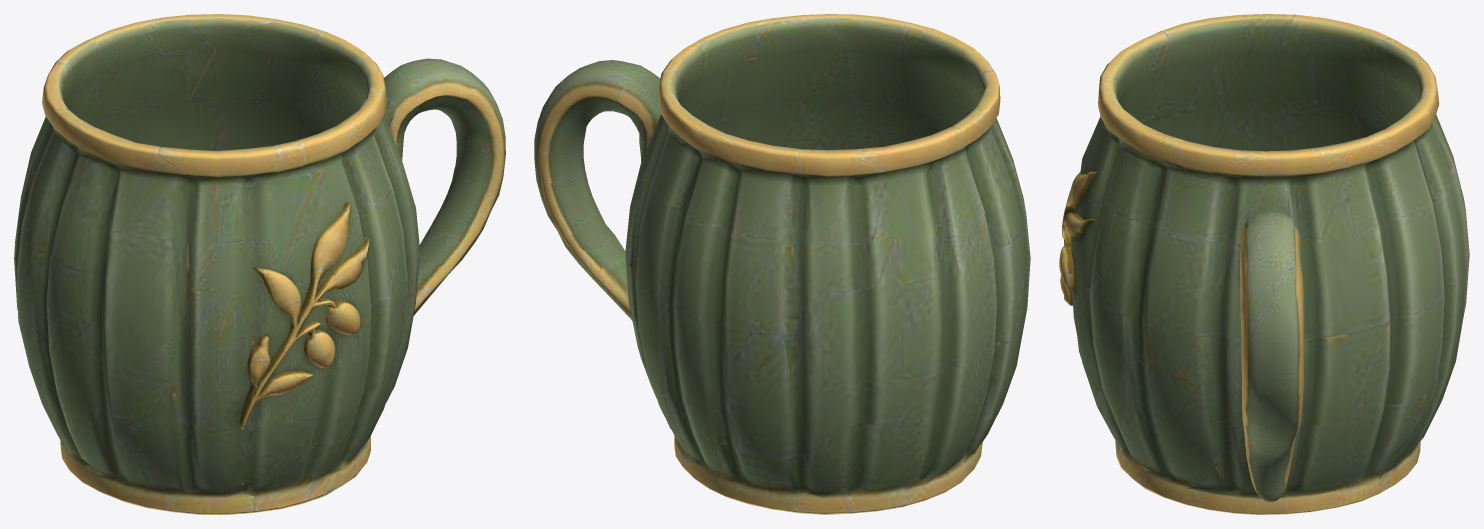
File: Meshy_AI_olive_ceramic_mug_1109191611_texture.glb
3 renders of one model, left to right at view 1: azimuth 30°, elevation 25°; view 2: azimuth 150°, elevation 25°; view 3: azimuth 270°, elevation 25°, orthographic.
Visible parts, largest first — view 1: geometry_0; view 2: geometry_0; view 3: geometry_0.
Part boxes in pixels (x1,y1,x2,y2): geometry_0: (14, 14, 505, 514); geometry_0: (534, 14, 1030, 514); geometry_0: (1059, 14, 1469, 514).
Bounding box in the file's own units: 0.9541 × 0.7212 × 0.7324.
Materials: 1 (1 with a texture image).
